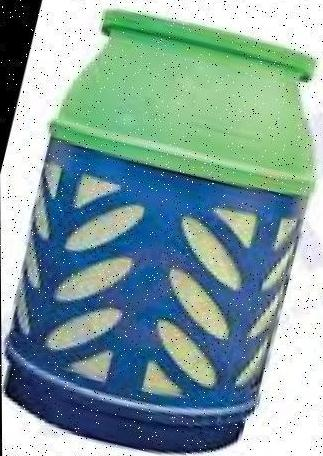cylinder: (1, 0, 323, 456)
